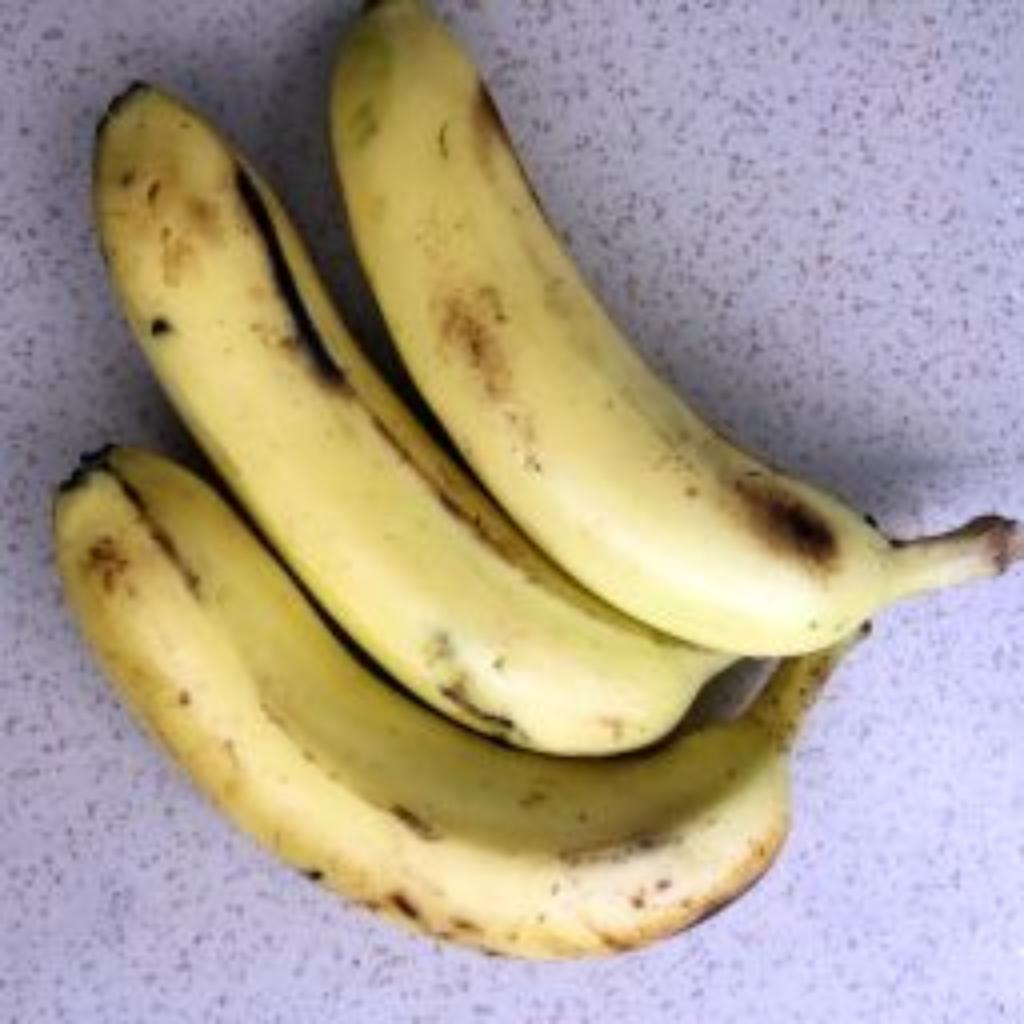banana: (324, 0, 1016, 712), (92, 88, 744, 760), (52, 448, 860, 960)
